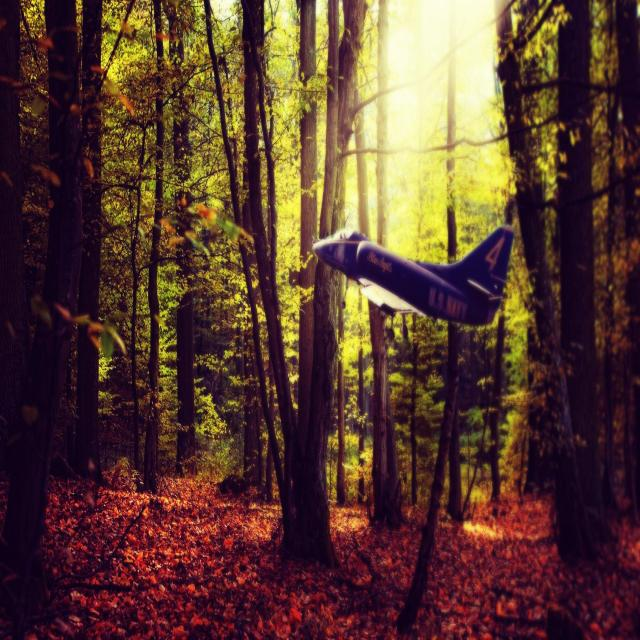airplane: (311, 223, 515, 328)
